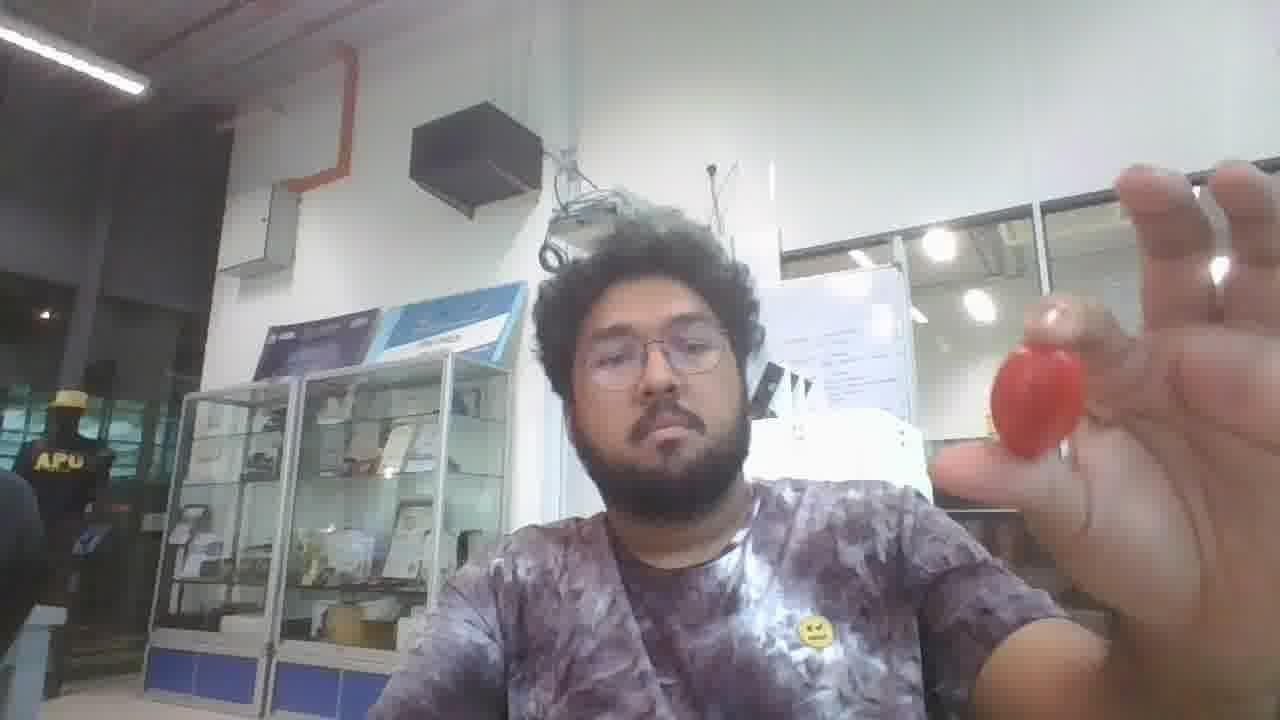red_cherry_tomato: (990, 344, 1083, 459)
